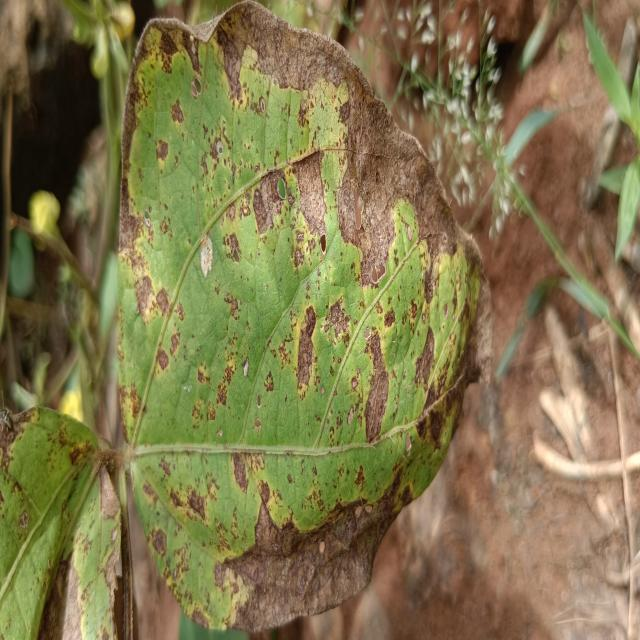Black gram_leaf spot: (112, 0, 494, 630), (2, 406, 122, 640)
